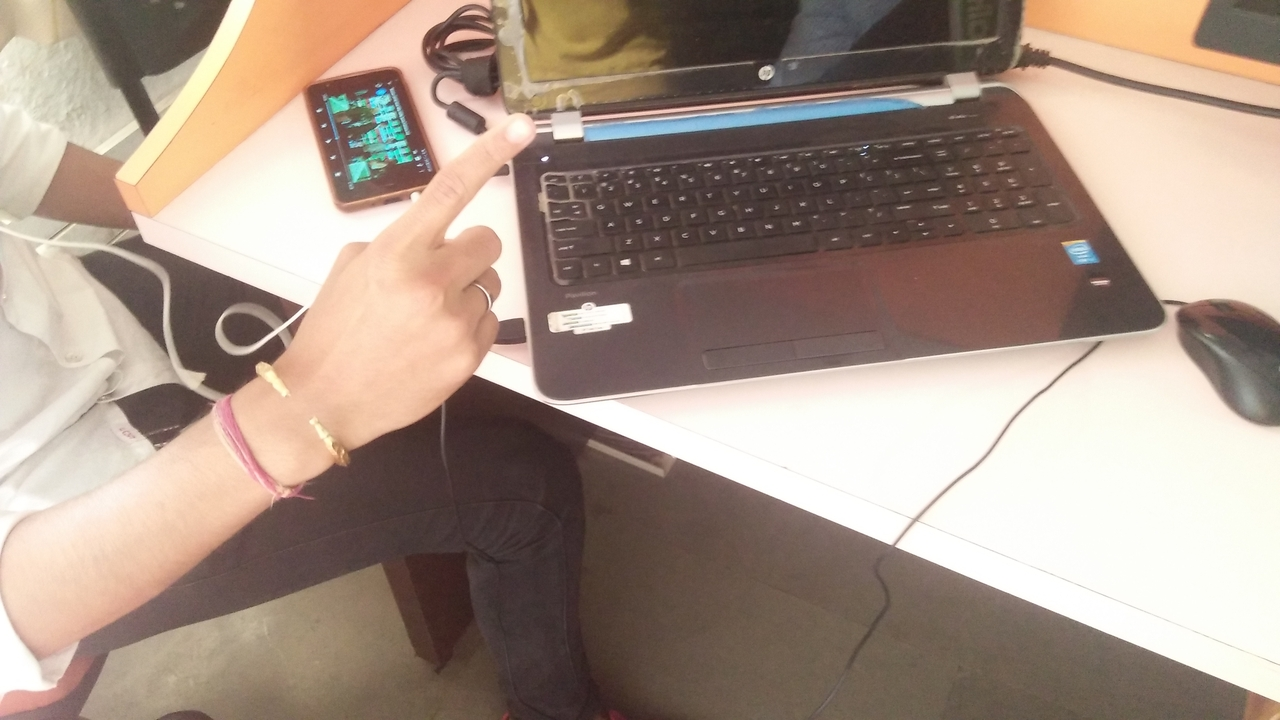fingertip: (495, 111, 538, 157)
